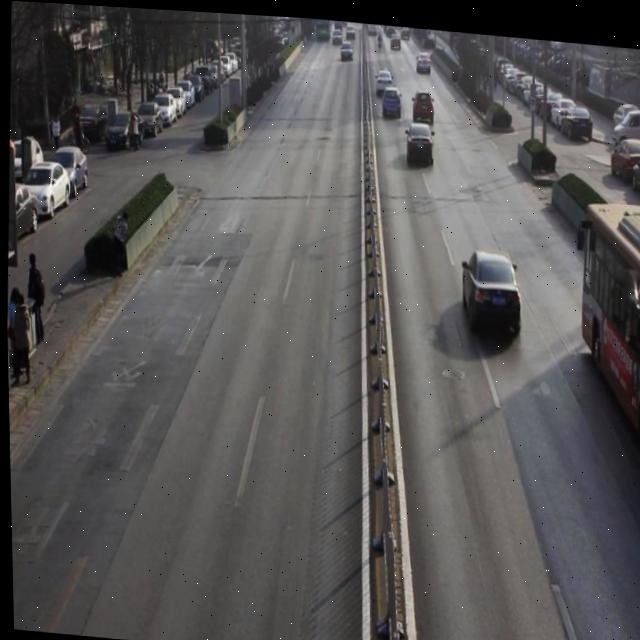car: (456, 240, 523, 334), (403, 116, 435, 163), (380, 81, 402, 117), (411, 86, 435, 118)
van: (572, 196, 640, 469)
